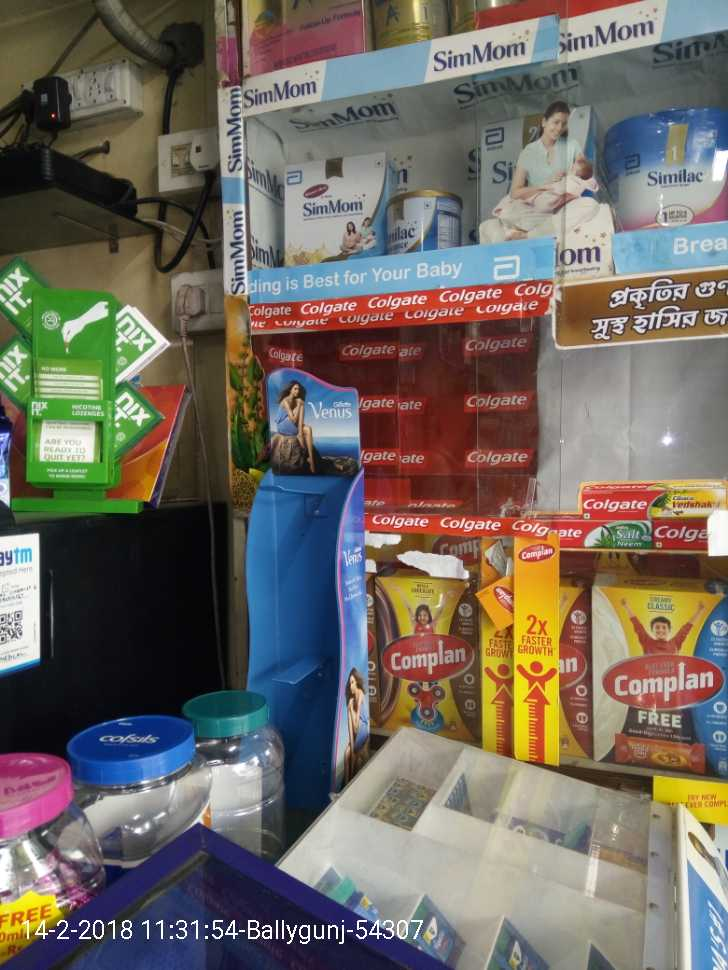reject: (307, 435, 407, 573)
